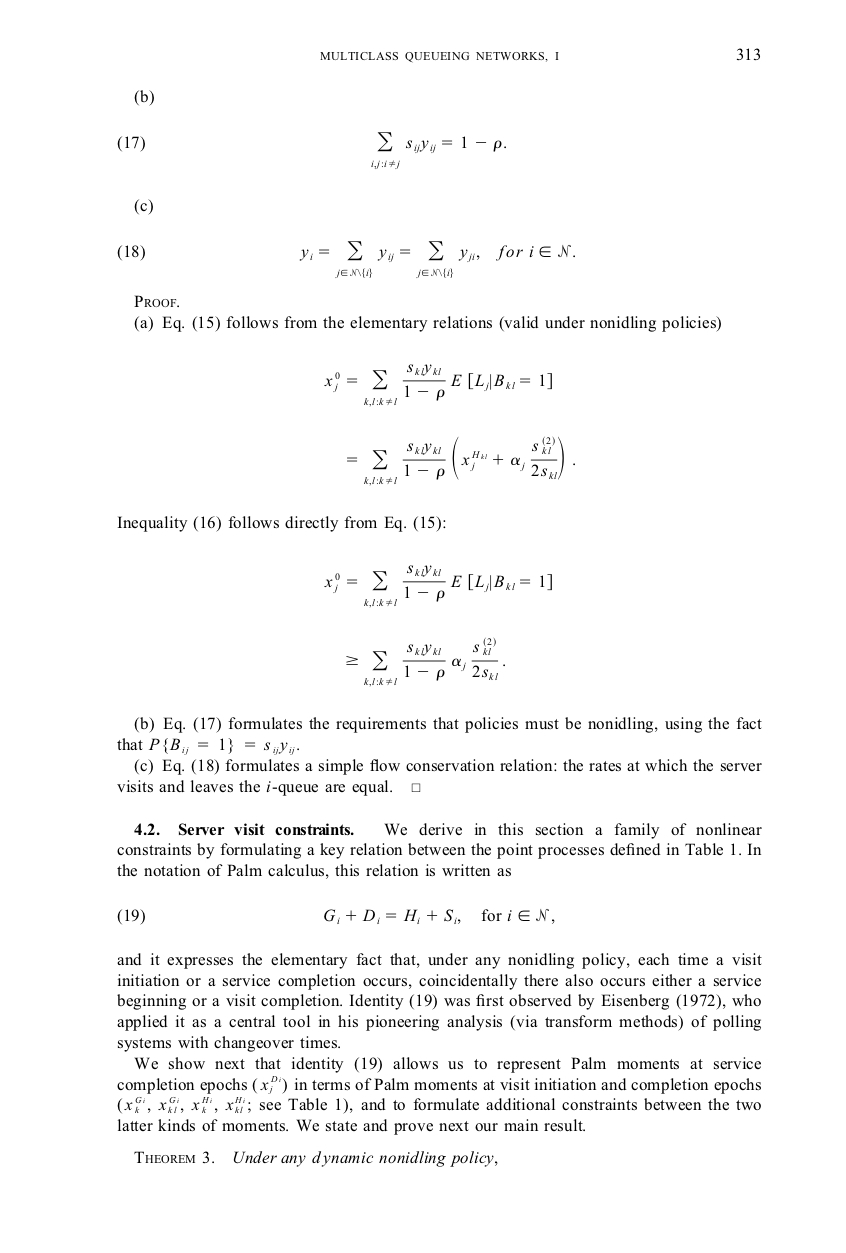formula: (117, 241, 574, 277), (117, 132, 505, 168), (347, 435, 574, 486), (324, 362, 551, 407), (324, 564, 551, 608), (346, 636, 504, 687), (117, 908, 554, 925)
